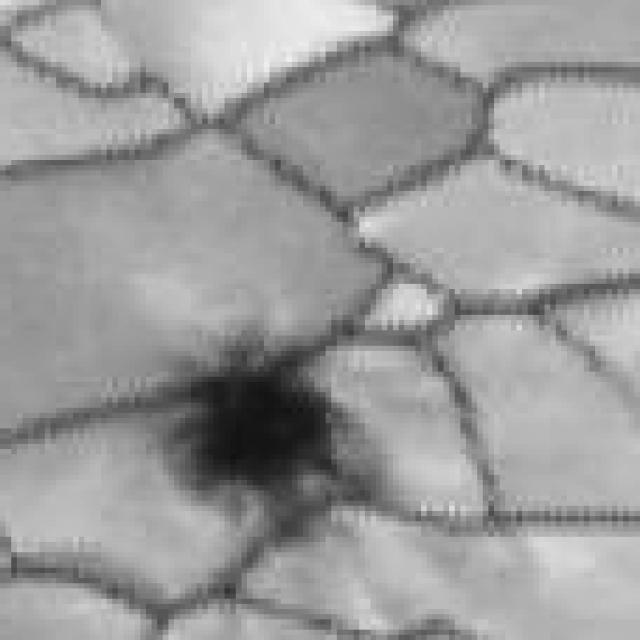good_void: (164, 329, 347, 515)
